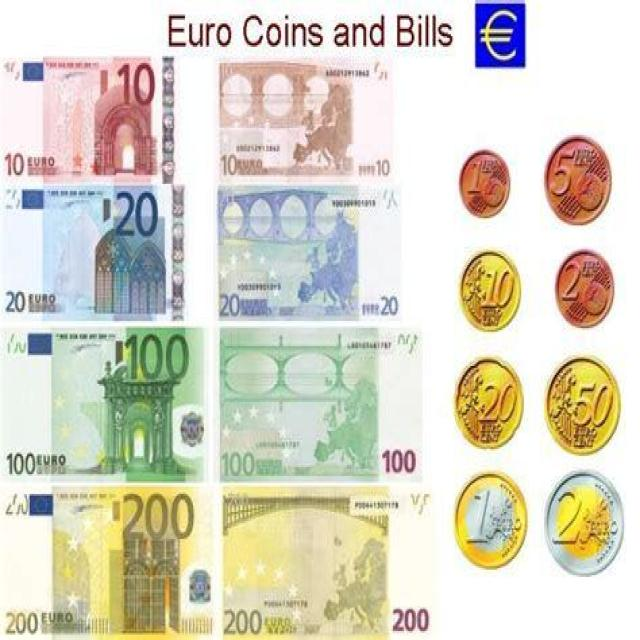banknote: (218, 323, 432, 486), (8, 326, 215, 490), (0, 487, 216, 640), (230, 486, 448, 634), (212, 182, 414, 321), (1, 183, 191, 326), (213, 51, 403, 182), (4, 55, 185, 184), (120, 488, 198, 550), (124, 329, 192, 385), (113, 188, 163, 240), (118, 62, 157, 114), (390, 594, 433, 640), (399, 487, 441, 530), (1, 599, 40, 639), (376, 445, 423, 478), (221, 440, 257, 482), (222, 603, 262, 640), (390, 326, 420, 364), (4, 446, 37, 480), (0, 488, 30, 524), (1, 328, 30, 362), (216, 147, 242, 184), (215, 288, 242, 322), (367, 56, 395, 88), (379, 186, 404, 218), (4, 285, 29, 317), (378, 289, 403, 321), (3, 148, 25, 184), (3, 184, 23, 216), (4, 57, 18, 96), (373, 156, 391, 181)
